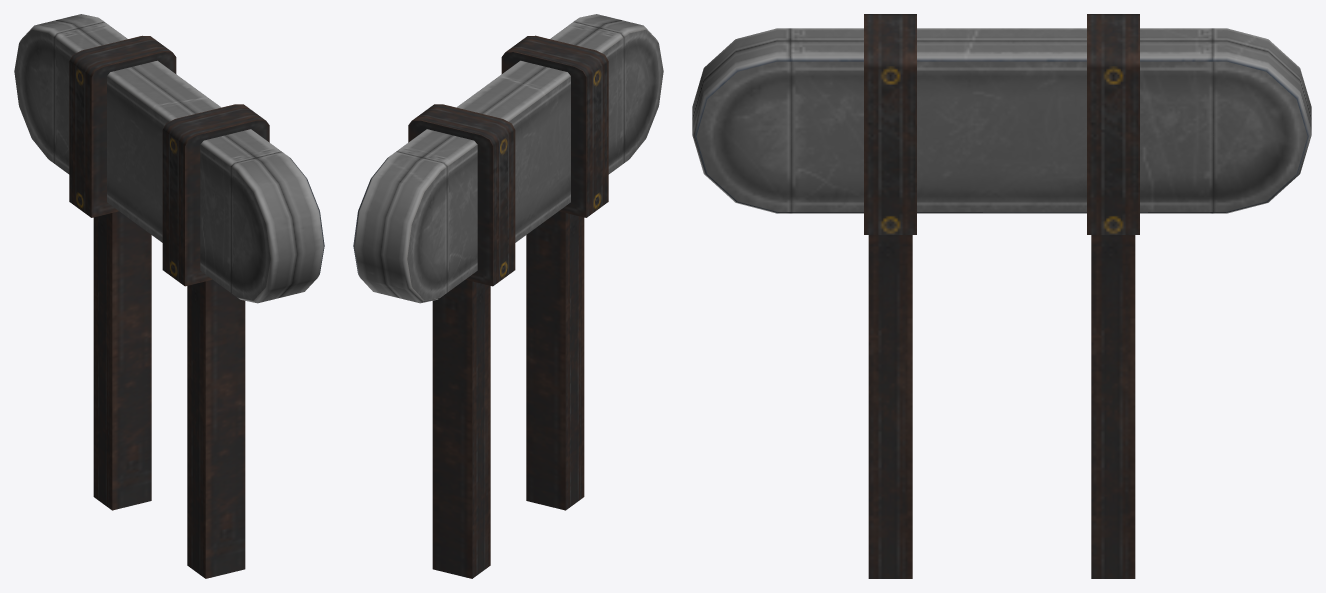
Rendered from Pipe3_Connect1_L0.fbx.
The picture shows the model from 3 angles, left to right: view 1: azimuth 30°, elevation 25°; view 2: azimuth 150°, elevation 25°; view 3: azimuth 270°, elevation 25°; orthographic projection. The views are drawn at different scales.
Visible parts, largest first — view 1: PIpe3_Connect1_L0; view 2: PIpe3_Connect1_L0; view 3: PIpe3_Connect1_L0.
Part boxes in pixels (box(x1,y1,x2,y2)): PIpe3_Connect1_L0: box(14, 14, 324, 578); PIpe3_Connect1_L0: box(353, 14, 663, 578); PIpe3_Connect1_L0: box(692, 14, 1311, 578).
Size of the model in its own units: 8.72 by 44.02 by 46.32.
